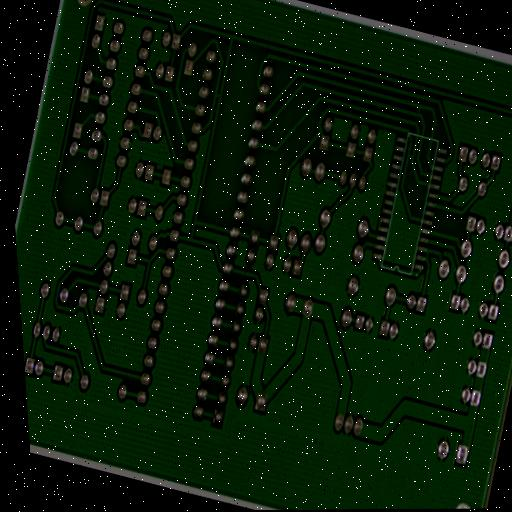short_circuit: (208, 85, 226, 106), (403, 147, 419, 168), (411, 101, 427, 120), (422, 250, 432, 263)
